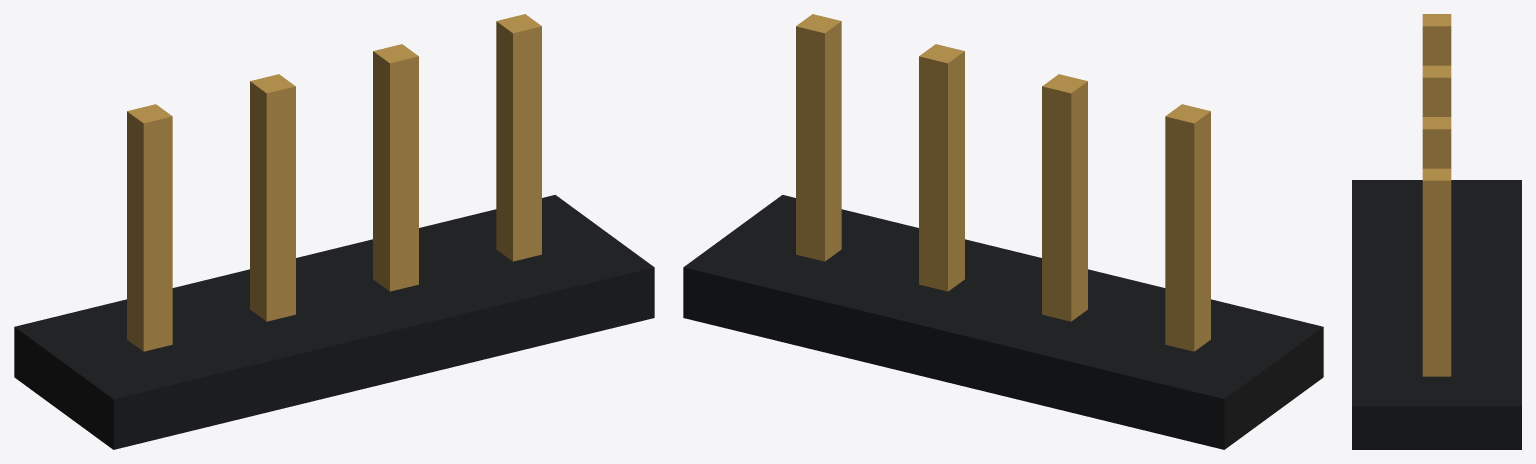
The model's file is L130_SYS_FAN2.fbx.
The picture shows the model from 3 angles, left to right: view 1: azimuth 30°, elevation 25°; view 2: azimuth 150°, elevation 25°; view 3: azimuth 270°, elevation 25°; orthographic projection. The views are drawn at different scales.
Visible parts, largest first — view 1: SYS_FAN2__Plastic, SYS_FAN2__Gold; view 2: SYS_FAN2__Plastic, SYS_FAN2__Gold; view 3: SYS_FAN2__Plastic, SYS_FAN2__Gold.
Boxes of the visible parts, box(x1,y1,x2,y2) form: SYS_FAN2__Plastic: box(14, 195, 654, 449); SYS_FAN2__Gold: box(127, 14, 541, 351); SYS_FAN2__Plastic: box(683, 195, 1323, 449); SYS_FAN2__Gold: box(796, 14, 1210, 351); SYS_FAN2__Plastic: box(1352, 180, 1521, 449); SYS_FAN2__Gold: box(1422, 14, 1451, 376).
Bounding box in the file's own units: 11.16 × 5.5 × 3.54.
